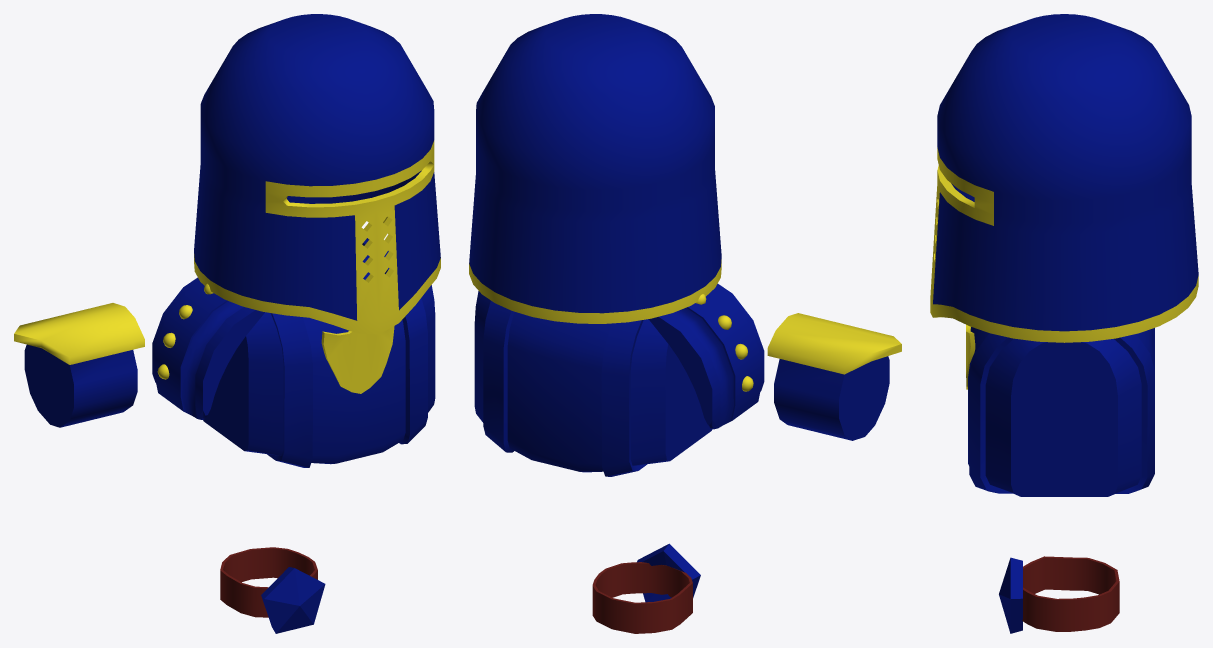
The model's file is Armor4.fbx.
The picture shows the model from 3 angles, left to right: view 1: azimuth 30°, elevation 25°; view 2: azimuth 150°, elevation 25°; view 3: azimuth 270°, elevation 25°; orthographic projection. The views are drawn at different scales.
Parts seen in each view (by area): view 1: Cylinder, Cube, Cylinder.001, Cube.001, Plane, Vert; view 2: Cylinder, Cube, Cylinder.001, Cube.001, Plane; view 3: Cylinder, Cube, Plane.
Boxes of the visible parts, box(x1,y1,x2,y2) form: Cylinder: box(194, 14, 440, 334); Cube: box(203, 238, 435, 467); Cylinder.001: box(14, 303, 144, 427); Cube.001: box(152, 277, 264, 419); Plane: box(220, 547, 325, 633); Vert: box(321, 326, 394, 393); Cylinder: box(469, 14, 721, 323); Cube: box(474, 291, 712, 476); Cylinder.001: box(767, 313, 901, 440); Cube.001: box(648, 284, 764, 429); Plane: box(592, 543, 700, 633); Cylinder: box(930, 14, 1198, 342); Cube: box(968, 327, 1154, 496); Plane: box(999, 556, 1119, 633).
Size of the model in its own units: 116 by 153 by 60.66.
